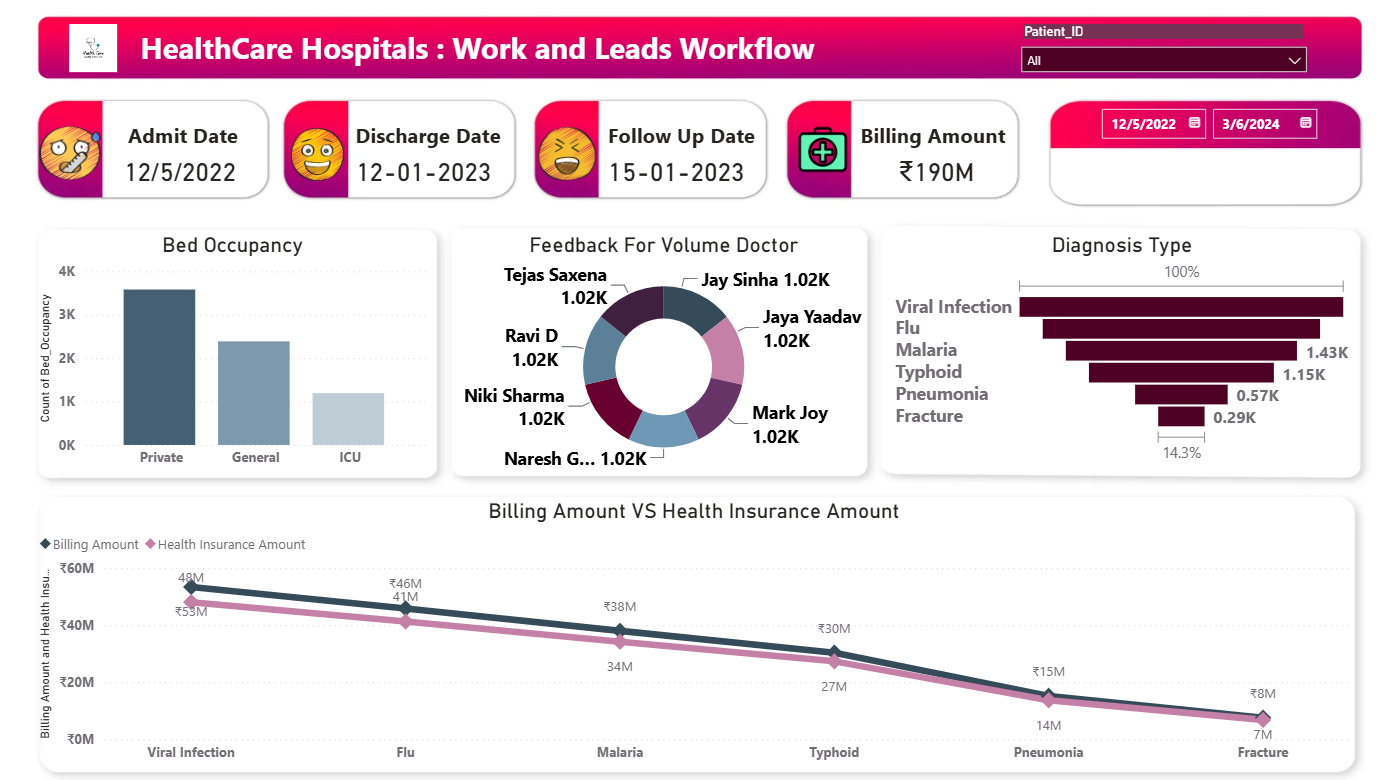

This screenshot's page, from the dashboard's own definition file:
{"tool":"powerbi","page":{"name":"HealthCare","canvas":[1280,720],"ordinal":0},"visuals":[{"type":"image","box":[58.1,17.6,54.1,54.1],"z":0},{"type":"textbox","box":[123,20.3,637.8,51.4],"z":1},{"type":"slicer","fields":{"Values":["Sheet1.Patient_ID"]},"box":[923,17.6,281.1,51.4],"z":2},{"type":"card","fields":{"Values":["Min(Sheet1.Admit_Date)"]},"box":[97.3,129.7,135.1,52.7],"z":3},{"type":"textbox","box":[112.2,106.8,148.6,45.9],"z":4},{"type":"card","fields":{"Values":["Min(Sheet1.Discharge_Date)"]},"box":[320.3,129.7,135.1,52.7],"z":5},{"type":"textbox","box":[320.3,106.8,148.6,45.9],"z":6},{"type":"textbox","box":[550,106.8,148.6,45.9],"z":7},{"type":"card","fields":{"Values":["Min(Sheet1.Followup Date)"]},"box":[550,129.7,135.1,52.7],"z":8},{"type":"textbox","box":[781.1,106.8,148.6,45.9],"z":9},{"type":"card","fields":{"Values":["Sum(Sheet1.Billing Amount)"]},"box":[787.8,129.7,135.1,52.7],"z":10},{"type":"slicer","fields":{"Values":["Sheet1.Admit_Date"]},"box":[978.4,81.1,259.5,86.5],"z":11},{"type":"image","box":[31.1,106.8,66.2,67.6],"z":12},{"type":"image","box":[486.5,106.8,63.5,67.6],"z":13},{"type":"image","box":[260.8,110.8,59.5,60.8],"z":14},{"type":"image","box":[723,106.8,58.1,60.8],"z":15},{"type":"columnChart","title":"Bed Occupancy ","fields":{"Category":["Sheet1.Bed_Occupancy"],"Y":["CountNonNull(Sheet1.Bed_Occupancy)"]},"box":[31.1,212.2,363.5,224.3],"z":16},{"type":"donutChart","title":"Feedback For Volume Doctor","fields":{"Category":["Sheet1.Doctor"],"Y":["CountNonNull(Sheet1.Doctor)"]},"box":[424.3,212.2,363.5,224.3],"z":17},{"type":"funnel","title":"Diagnosis Type","fields":{"Category":["Sheet1.Diagnosis"],"Y":["CountNonNull(Sheet1.Diagnosis)"]},"box":[813.5,212.2,424.3,214.9],"z":18},{"type":"lineChart","title":"Billing Amount VS Health Insurance Amount","fields":{"Y":["Sum(Sheet1.Billing Amount)","Sum(Sheet1.Health Insurance Amount)"],"Category":["Sheet1.Diagnosis"]},"box":[31.1,455.4,1206.8,250],"z":19}]}

Visuals, with their boxes in screenshot pixels (x1, y1, x2, y2), scaled from the page's 1280x720 canvas onto the 1399x780 screenshot:
image: [x1=64, y1=19, x2=123, y2=78]
textbox: [x1=134, y1=22, x2=832, y2=78]
slicer - Sheet1.Patient_ID: [x1=1009, y1=19, x2=1316, y2=75]
card - Min(Sheet1.Admit_Date): [x1=106, y1=141, x2=254, y2=198]
textbox: [x1=123, y1=116, x2=285, y2=165]
card - Min(Sheet1.Discharge_Date): [x1=350, y1=141, x2=498, y2=198]
textbox: [x1=350, y1=116, x2=512, y2=165]
textbox: [x1=601, y1=116, x2=764, y2=165]
card - Min(Sheet1.Followup Date): [x1=601, y1=141, x2=749, y2=198]
textbox: [x1=854, y1=116, x2=1016, y2=165]
card - Sum(Sheet1.Billing Amount): [x1=861, y1=141, x2=1009, y2=198]
slicer - Sheet1.Admit_Date: [x1=1069, y1=88, x2=1353, y2=182]
image: [x1=34, y1=116, x2=106, y2=189]
image: [x1=532, y1=116, x2=601, y2=189]
image: [x1=285, y1=120, x2=350, y2=186]
image: [x1=790, y1=116, x2=854, y2=182]
"Bed Occupancy " columnChart: [x1=34, y1=230, x2=431, y2=473]
"Feedback For Volume Doctor" donutChart: [x1=464, y1=230, x2=861, y2=473]
"Diagnosis Type" funnel: [x1=889, y1=230, x2=1353, y2=463]
"Billing Amount VS Health Insurance Amount" lineChart: [x1=34, y1=493, x2=1353, y2=764]
